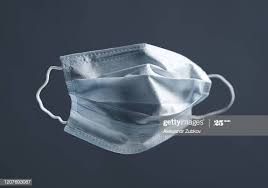flumask: (62, 50, 209, 152)
